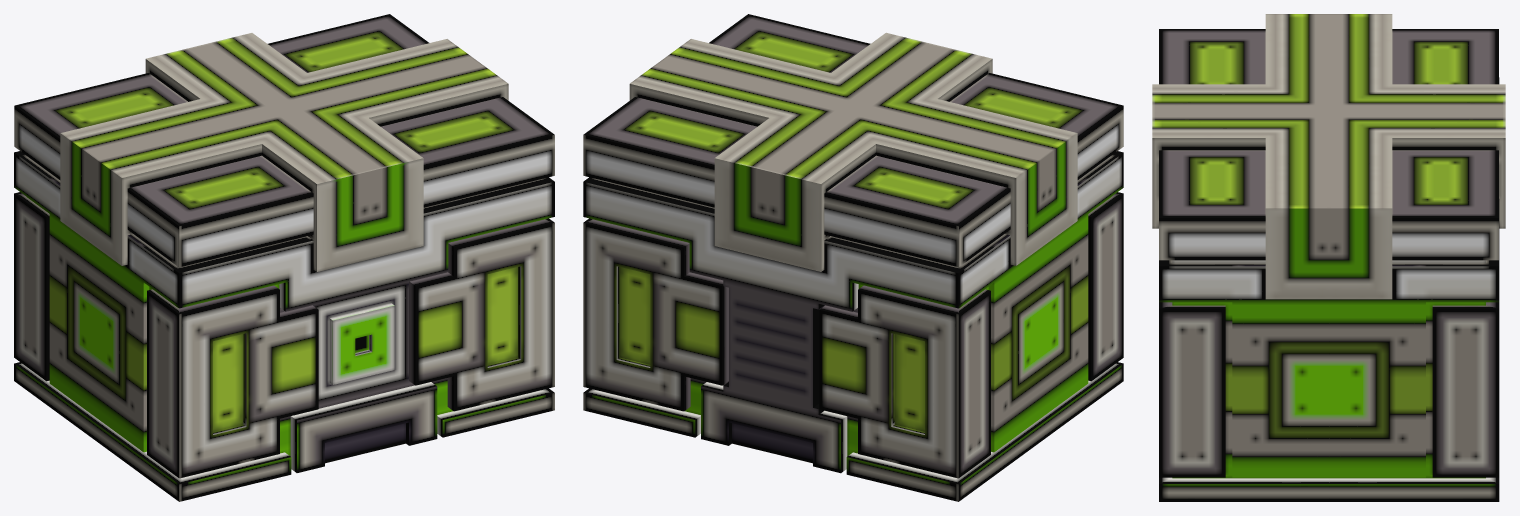
File: fighters_lottery_chest_1.fbx
3 views of the same model, side by side, from view 1: azimuth 30°, elevation 25°; view 2: azimuth 150°, elevation 25°; view 3: azimuth 270°, elevation 25° (orthographic). The views are drawn at different scales.
Parts seen in each view (by area): view 1: fighters_lottery_chest_1, lid_event_chest_1_mesh; view 2: fighters_lottery_chest_1, lid_event_chest_1_mesh; view 3: lid_event_chest_1_mesh, fighters_lottery_chest_1.
Boxes of the visible parts, <box> form: fighters_lottery_chest_1: <box>14,151,554,501</box>; lid_event_chest_1_mesh: <box>14,14,554,271</box>; fighters_lottery_chest_1: <box>583,151,1123,501</box>; lid_event_chest_1_mesh: <box>583,14,1123,271</box>; lid_event_chest_1_mesh: <box>1152,14,1505,299</box>; fighters_lottery_chest_1: <box>1159,77,1499,501</box>.
Size of the model in its own units: 3.63 by 2.58 by 2.79.
